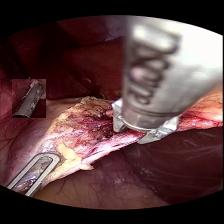Clipper: (108, 90, 182, 144)
Grasper: (4, 150, 62, 198), (12, 78, 46, 117)
